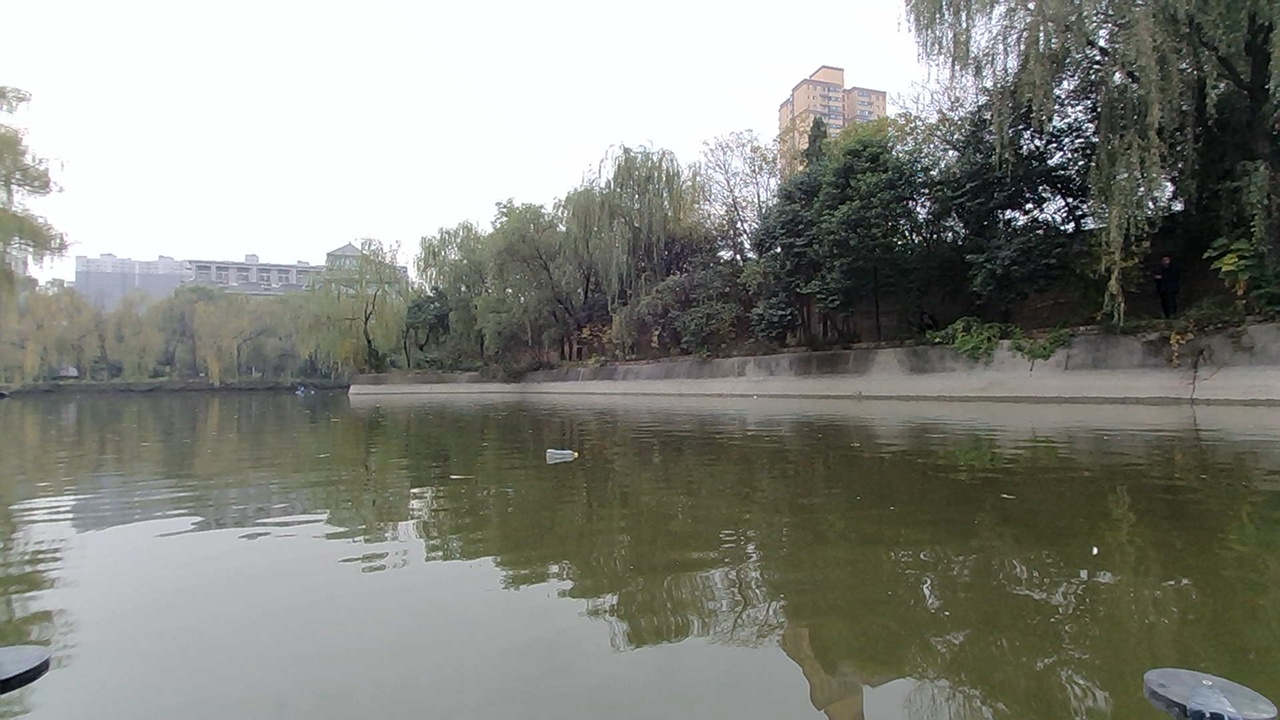bottle: (537, 428, 595, 469)
